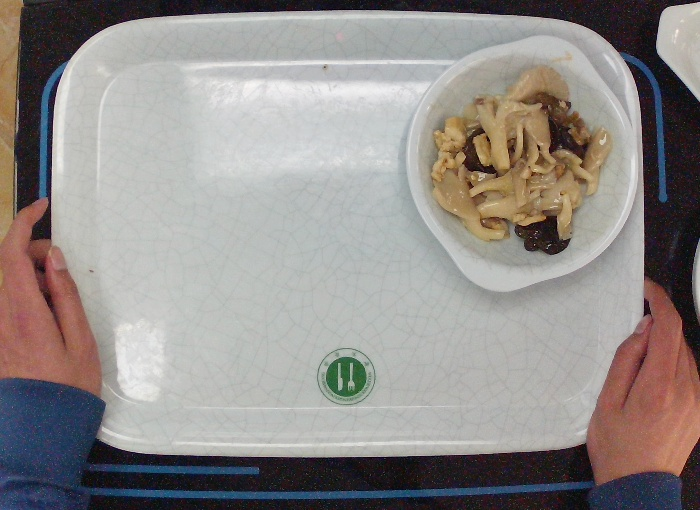JYsf-Shuang_Er_Wan: (399, 28, 640, 299)
